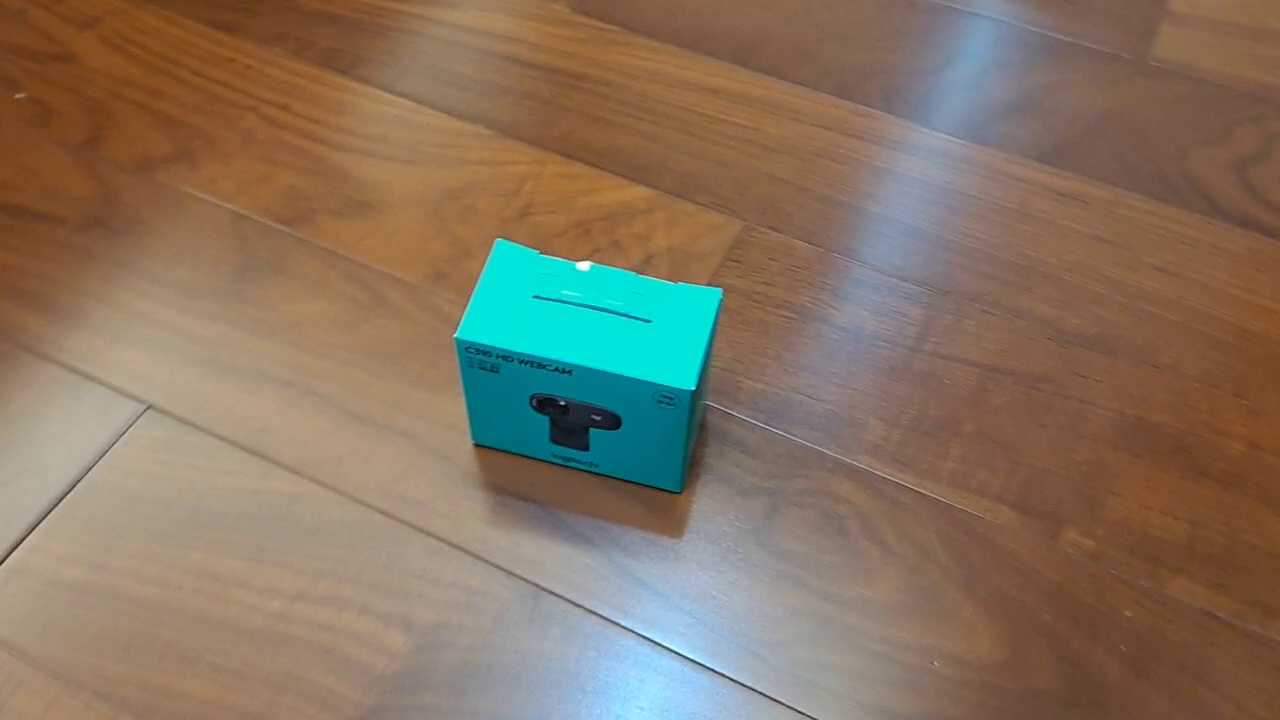webcam: (451, 235, 725, 495)
